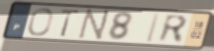8: (107, 11, 134, 43)
I: (143, 12, 163, 44)
N: (76, 8, 113, 43)
O: (27, 6, 55, 37)
R: (157, 13, 189, 45)
T: (57, 8, 83, 38)
